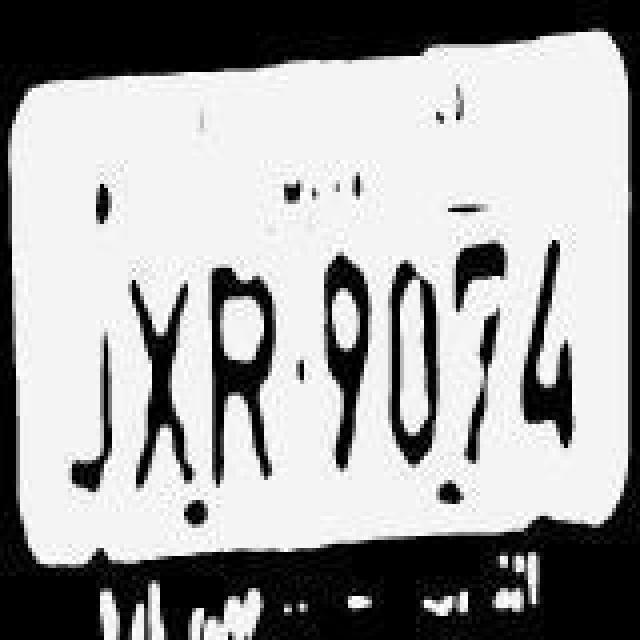4: (516, 222, 588, 466)
7: (448, 232, 512, 472)
9: (316, 246, 380, 498)
J: (52, 302, 124, 522)
O: (384, 242, 448, 478)
R: (206, 266, 282, 502)
X: (128, 276, 200, 500)
